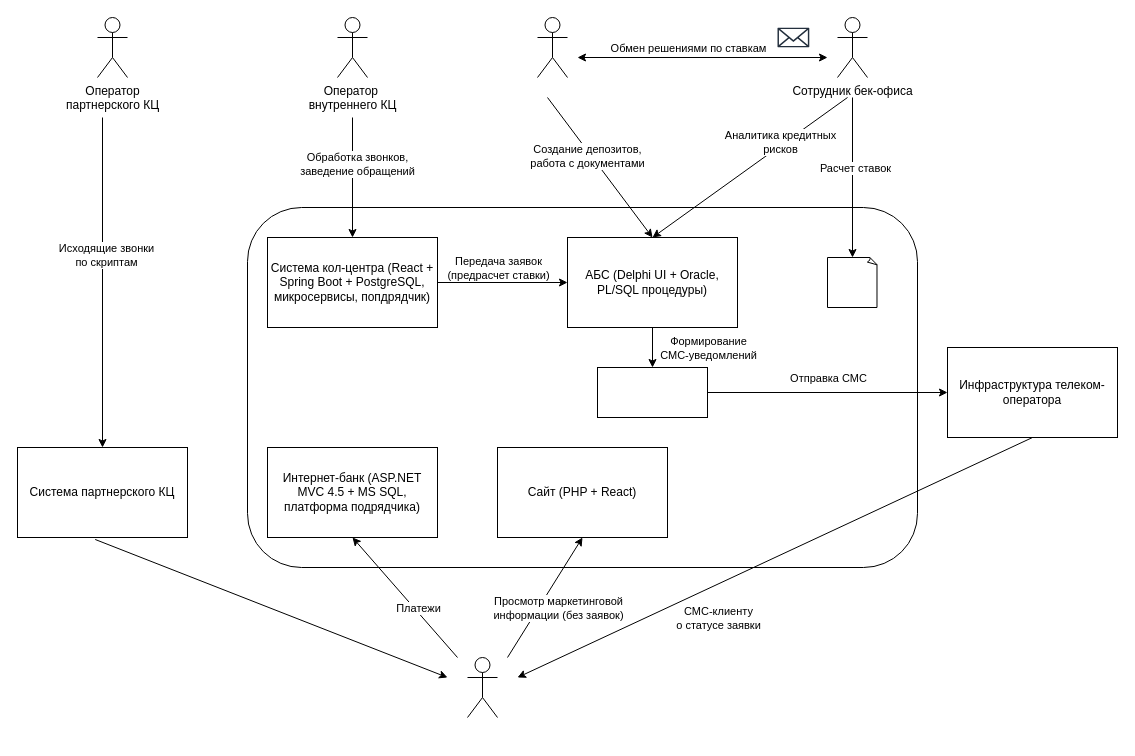
The diagram is 1135 pixels wide and 756 high, and some of its shapes have lost their labels. Each missing label, with the centre of its shape:
Excel (файл ставок): the point at 852,282
Клиент: the point at 482,687
СМС-шлюз: the point at 652,392
Сотрудник фронт-офиса: the point at 552,47
